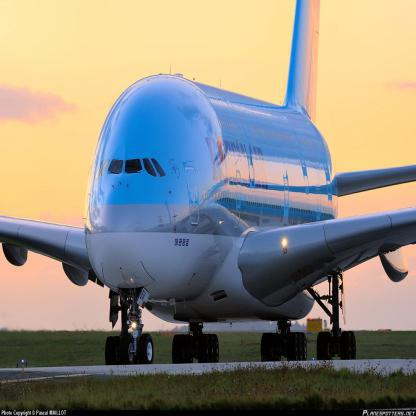CIV_Plane: (0, 4, 416, 368)
